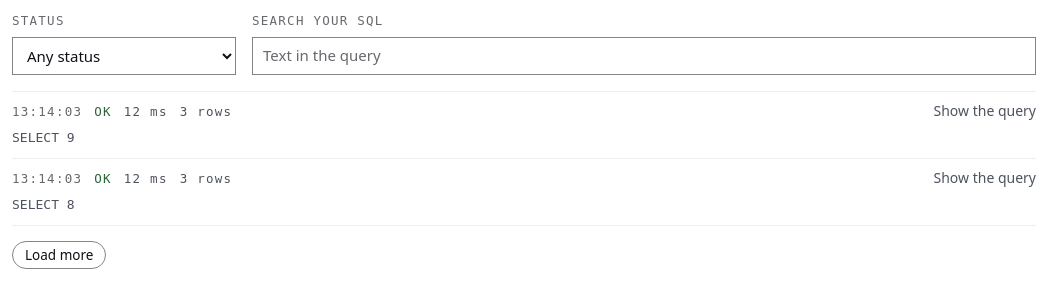
Test: my queries › searches once the typing stops
Type "guests" into the search field labelled "Search your SQL" at point(644, 56), box [252, 37, 1036, 75]
Wait 300 ms
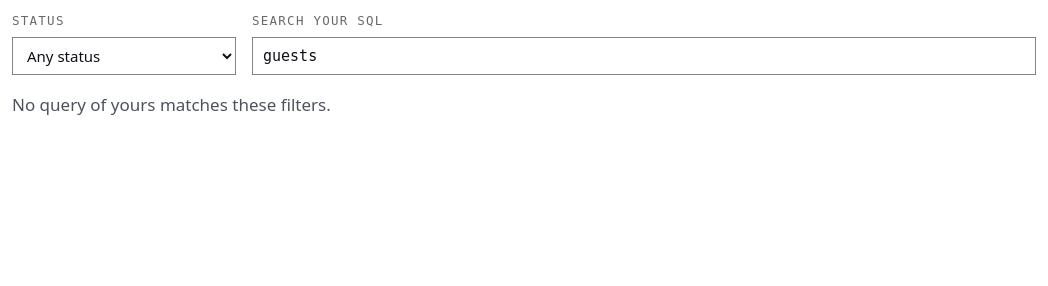
Expected: the text "No query of yours matches these filters." is shown, [12, 93, 331, 116]
